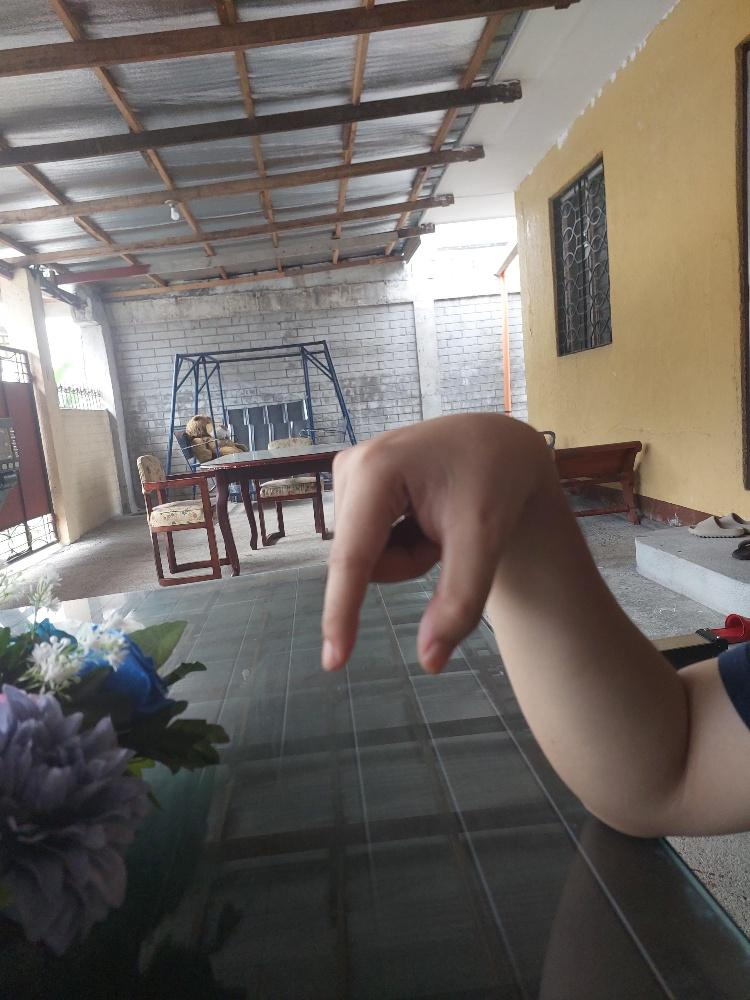q: (317, 405, 529, 677)
